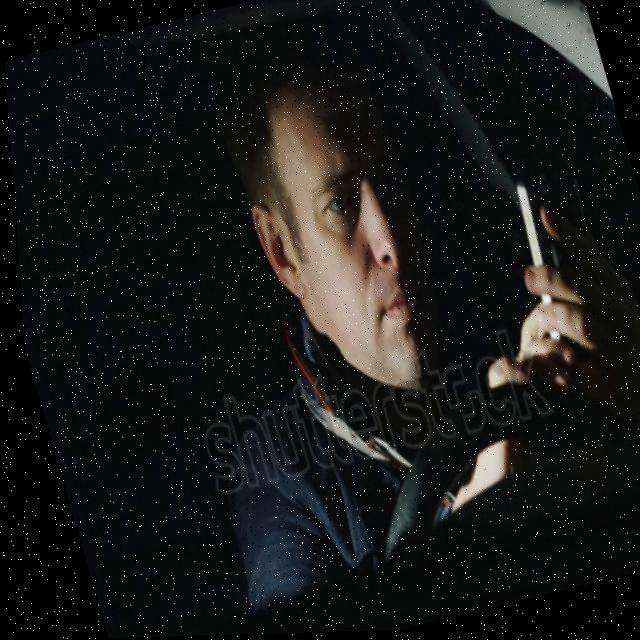PhoneCall: (501, 154, 613, 348)
